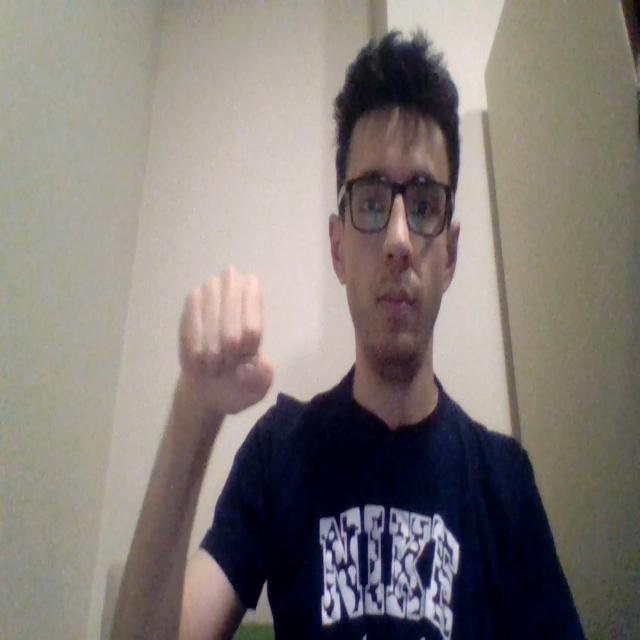yes: (177, 263, 274, 416)
